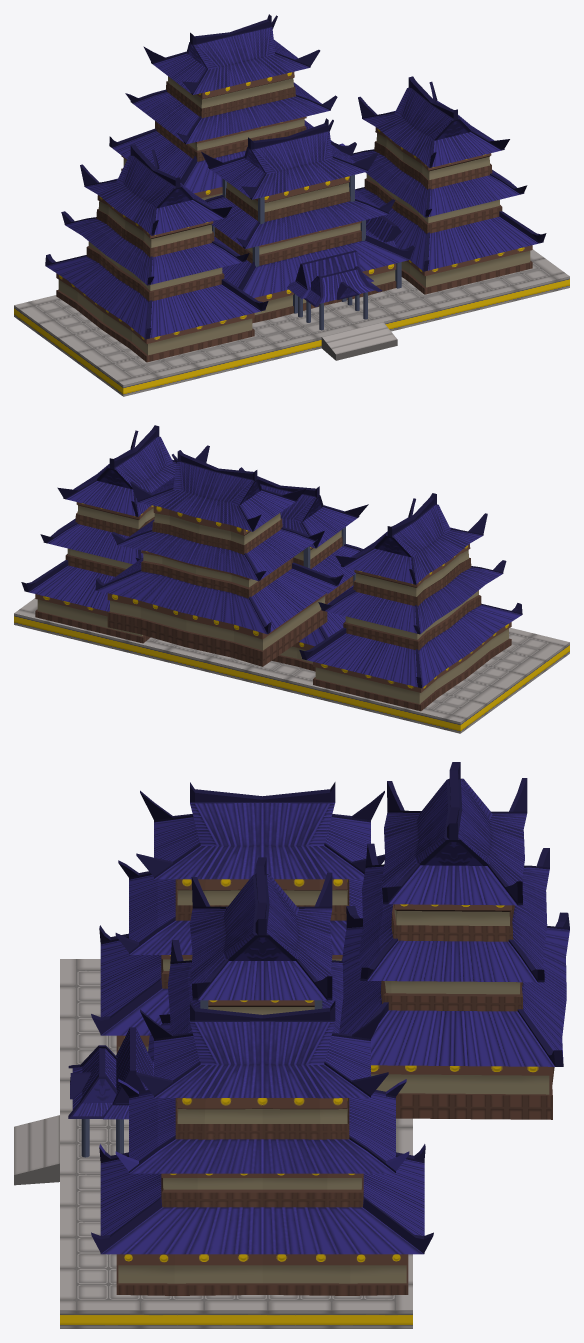
Rendered from Byakko Building.fbx.
3 views of the same model, one above another, from view 1: azimuth 30°, elevation 25°; view 2: azimuth 150°, elevation 25°; view 3: azimuth 270°, elevation 25° (orthographic). The views are drawn at different scales.
Visible parts, largest first — view 1: Plane.007, Plane.001, Plane.003, Cube.002, Plane.008, Plane.004, Plane, Cube, Plane.006, Cylinder; view 2: Plane.008, Plane.007, Plane.001, Cube.002, Plane.003; view 3: Plane.001, Plane.008, Plane.007, Cube.002, Plane.003, Plane.004, Plane.
Part boxes in pixels (x1,y1,x2,y2): Plane.007: (45, 144, 268, 362); Plane.001: (339, 76, 546, 294); Plane.003: (201, 118, 414, 323); Cube.002: (14, 249, 569, 396); Plane.008: (109, 14, 356, 200); Plane.004: (304, 266, 382, 307); Plane: (287, 250, 373, 298); Cube: (211, 175, 401, 313); Plane.006: (366, 215, 401, 247); Cylinder: (298, 292, 367, 330); Plane.008: (95, 450, 343, 666); Plane.007: (299, 493, 522, 711); Plane.001: (21, 425, 209, 643); Cube.002: (14, 598, 569, 733); Plane.003: (239, 467, 368, 671); Plane.001: (91, 1000, 433, 1295); Plane.008: (339, 762, 569, 1119); Plane.007: (91, 782, 385, 1053); Cube.002: (14, 959, 412, 1328); Plane.003: (148, 857, 343, 1061); Plane.004: (68, 1045, 117, 1118); Plane: (103, 1027, 153, 1119).
Size of the model in its own units: 3945 by 1931 by 2638.
